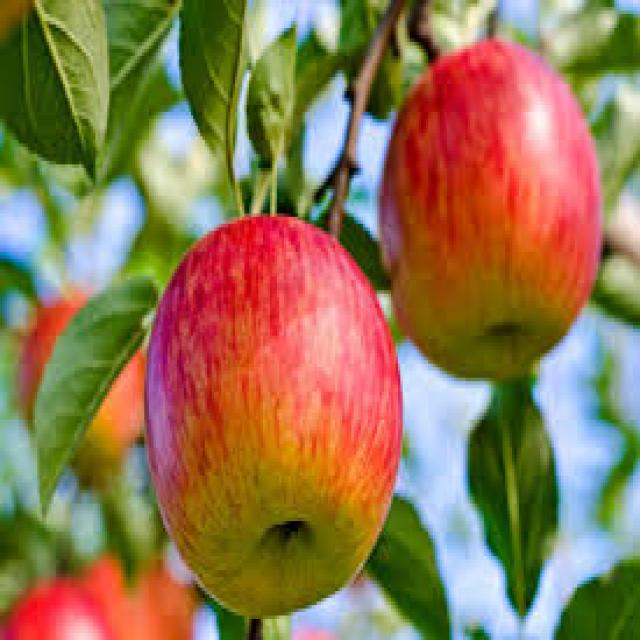apple: (134, 212, 410, 613)
